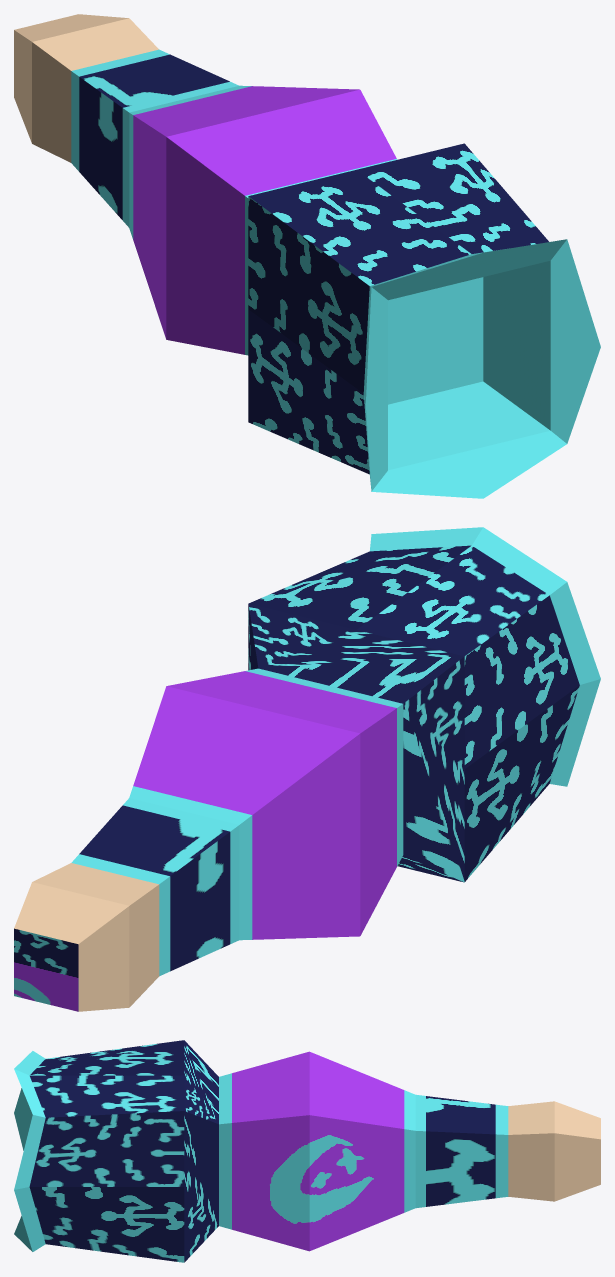
Rendered from Mirai 3d Gun.fbx.
The picture shows the model from 3 angles, top to bottom: view 1: azimuth 30°, elevation 25°; view 2: azimuth 150°, elevation 25°; view 3: azimuth 270°, elevation 25°; orthographic projection. The views are drawn at different scales.
Visible parts, largest first — view 1: Handgun; view 2: Handgun; view 3: Handgun.
Boxes of the visible parts, <box> form: Handgun: <box>14,14,600,498</box>; Handgun: <box>14,527,600,1011</box>; Handgun: <box>14,1040,600,1262</box>.
Size of the model in its own units: 51.56 by 51.56 by 166.
